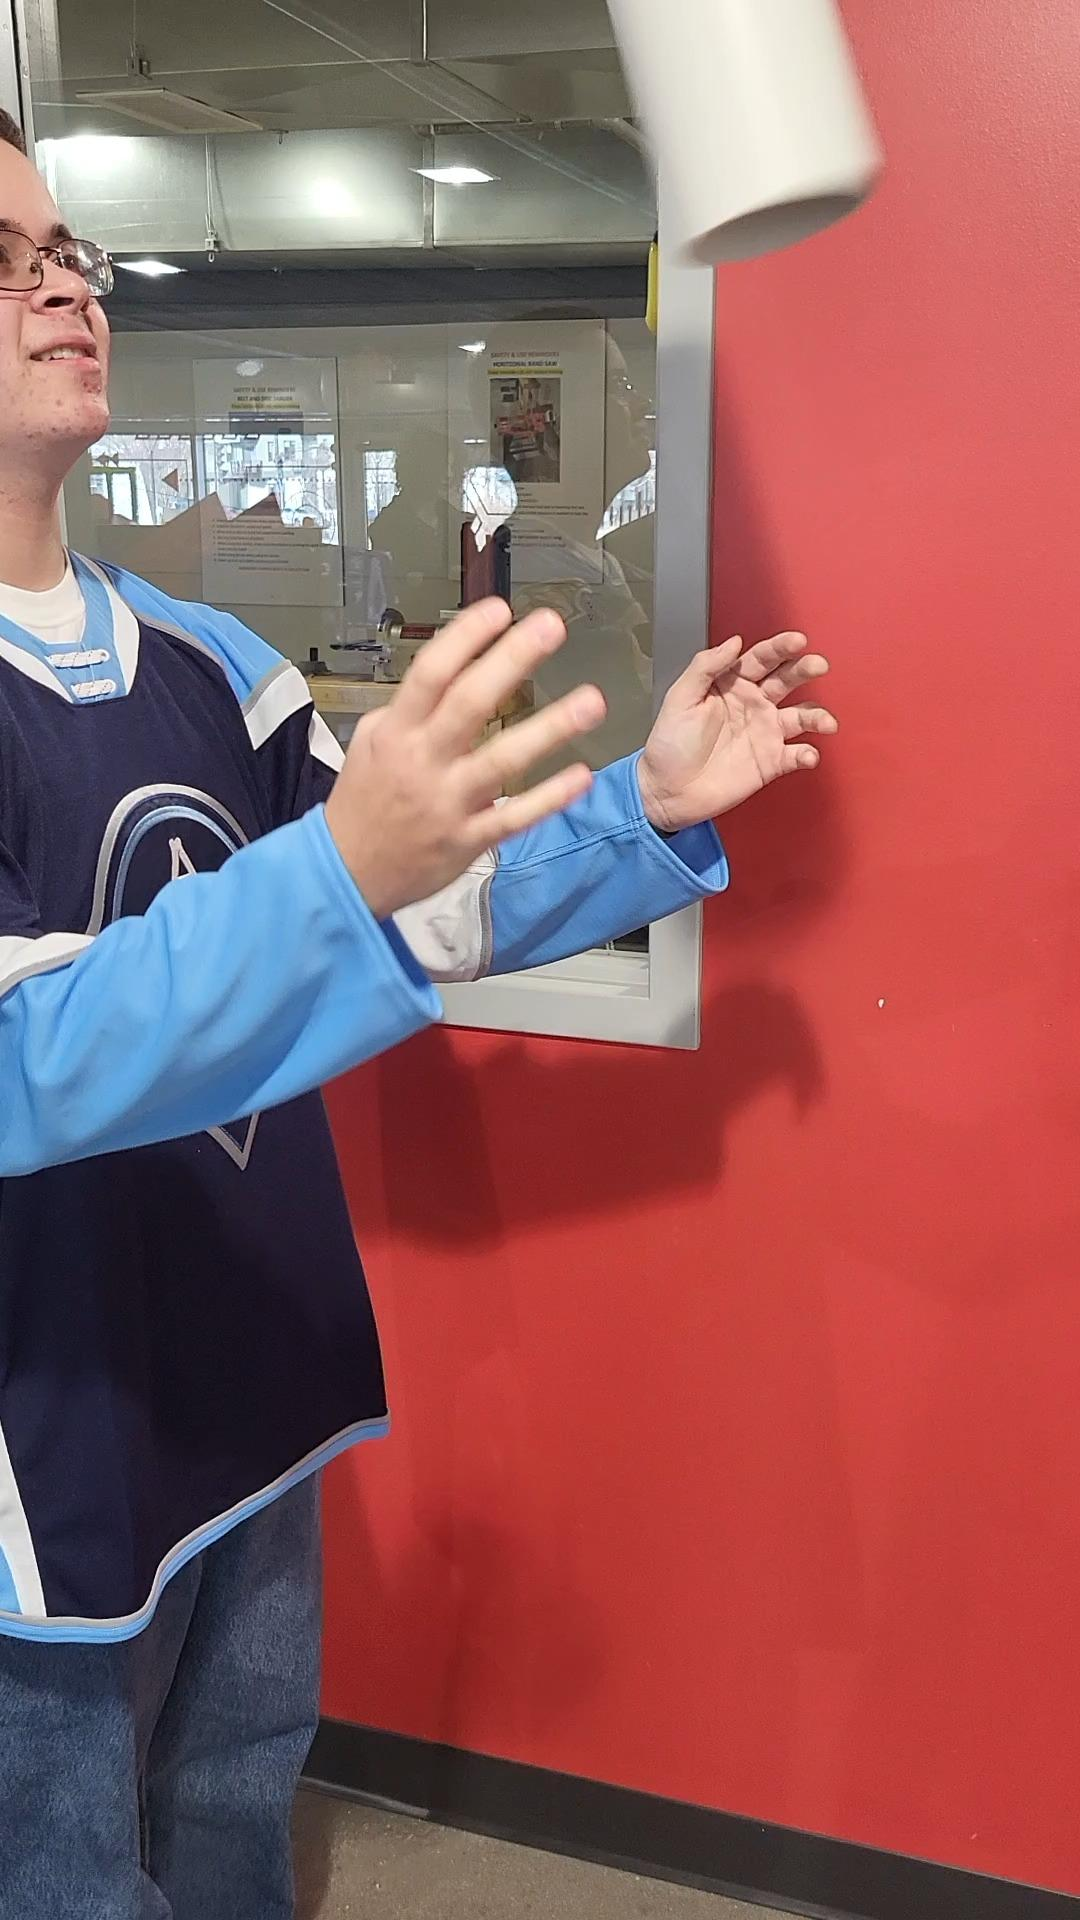coral: (600, 0, 877, 273)
